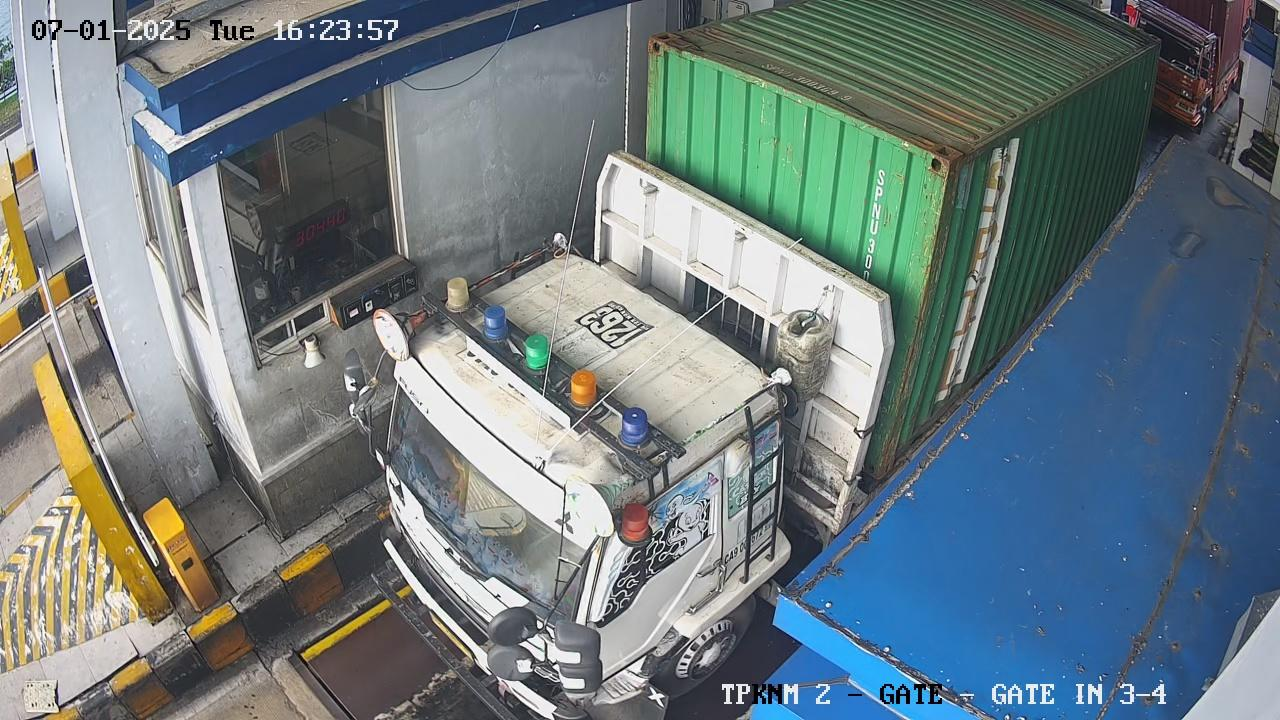Container_ID_Vertikal: (854, 167, 903, 280)
truck_id: (575, 301, 656, 350)
